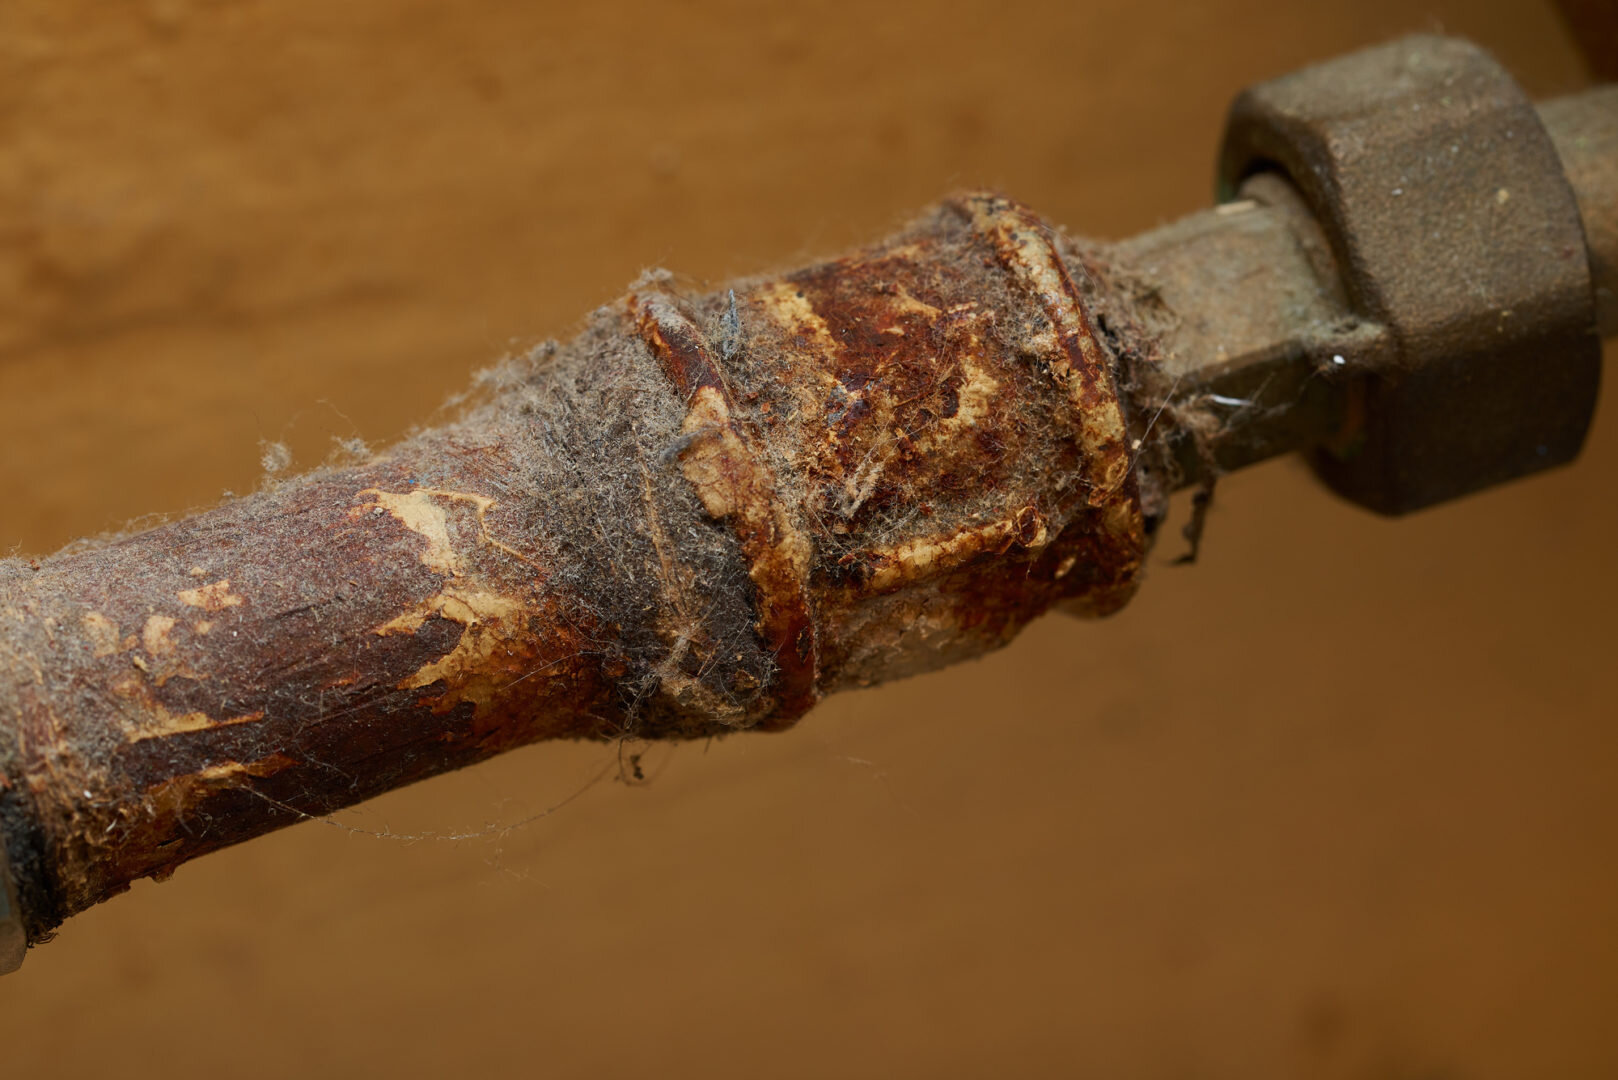Severe: (347, 162, 1170, 753), (11, 406, 851, 920)
